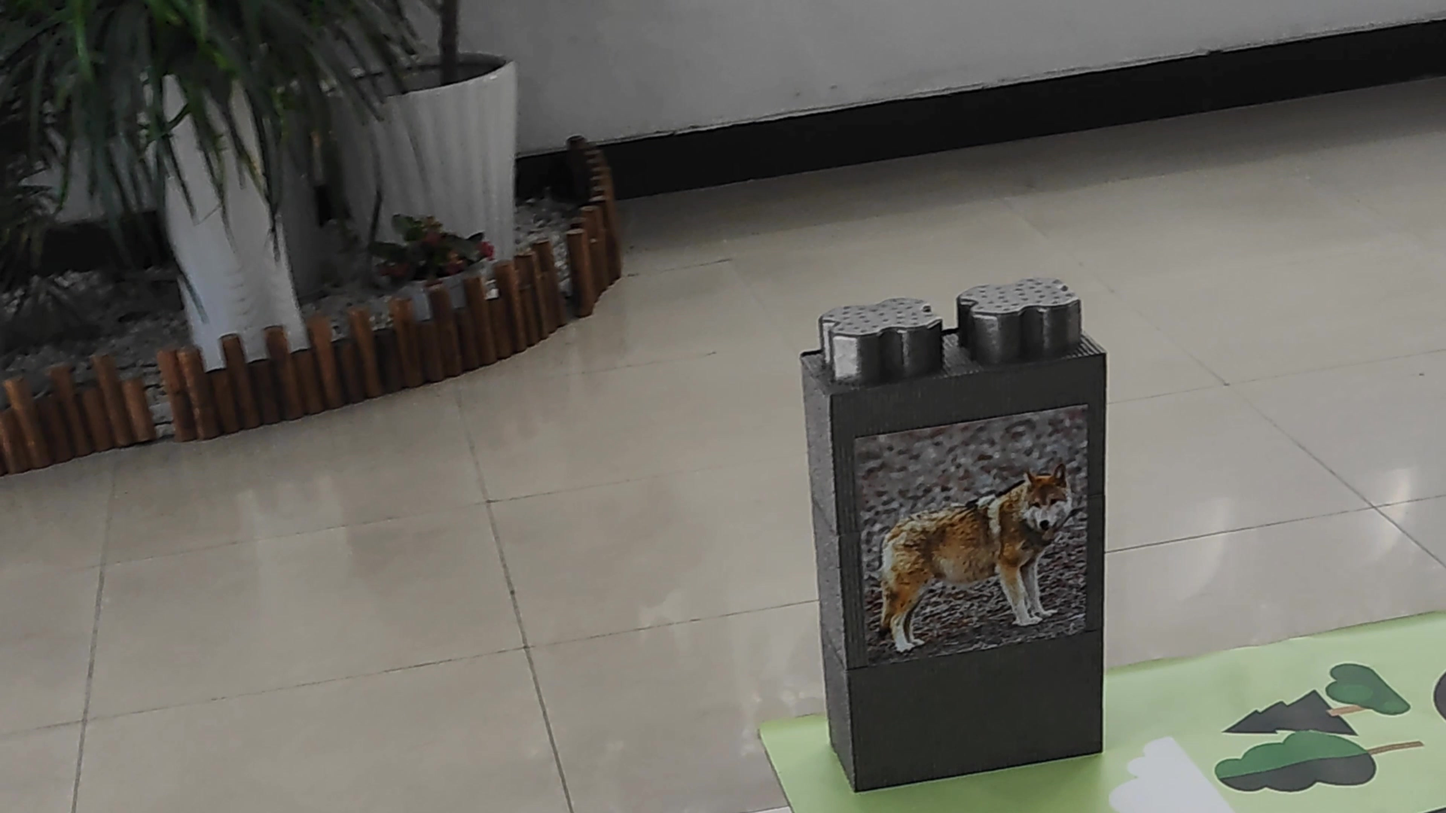wolf: (871, 457, 1089, 644)
